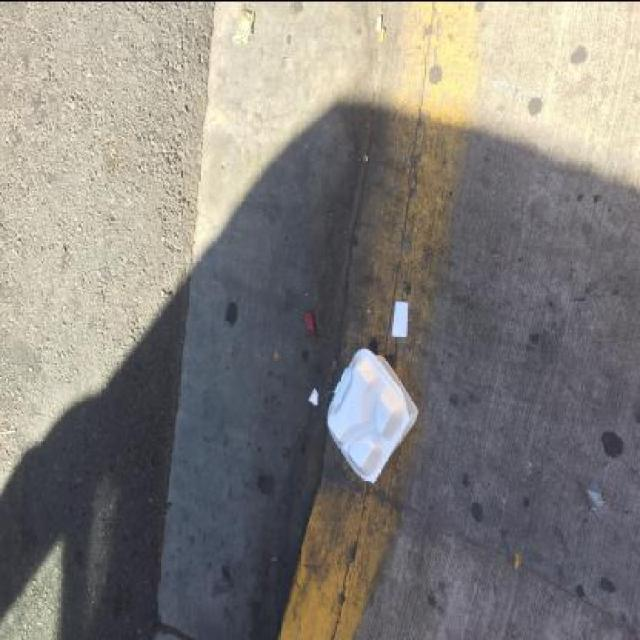foam: (325, 344, 421, 485)
paper: (391, 298, 409, 338)
